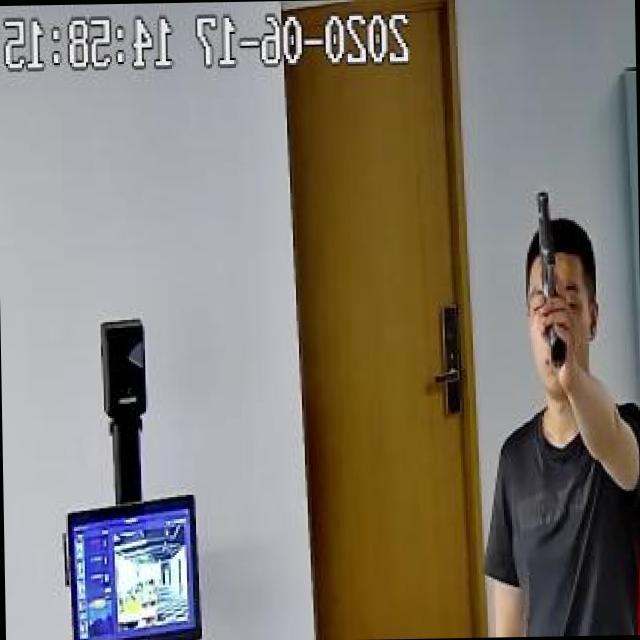Guns: (509, 181, 600, 396)
